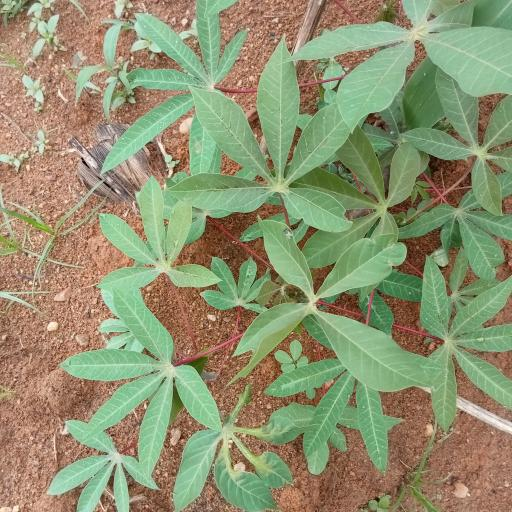Cassava_Mosaic: (239, 218, 423, 390), (178, 51, 356, 225), (82, 289, 226, 470)
